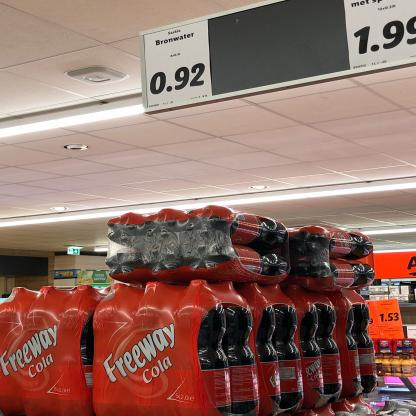prtg: (144, 21, 213, 109), (345, 1, 415, 72), (375, 300, 404, 327), (367, 302, 380, 328)
